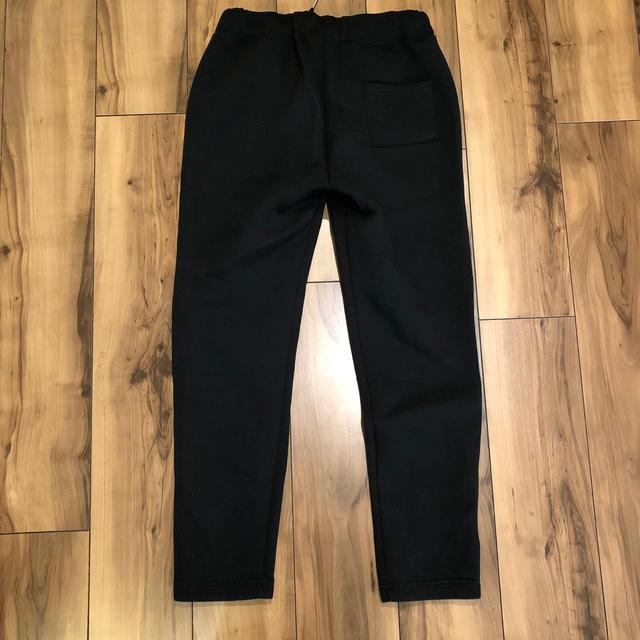long-pants: (167, 7, 487, 607)
